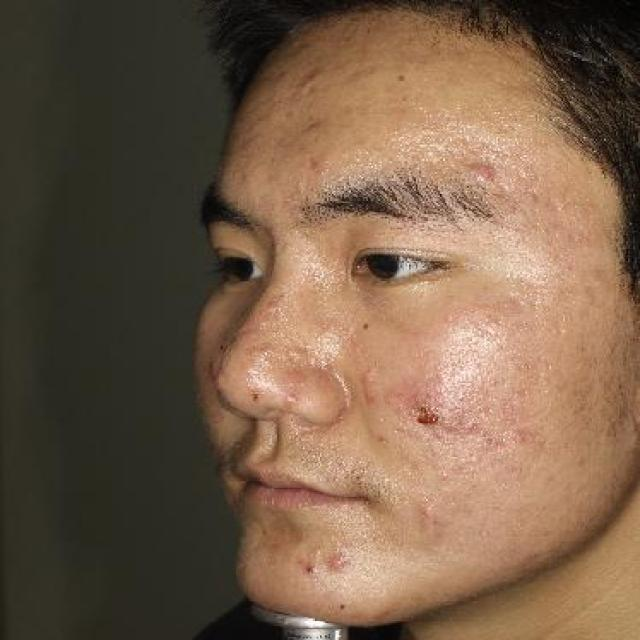dark spot: (382, 378, 457, 436), (282, 62, 340, 98), (289, 549, 318, 585)
nodules: (467, 150, 505, 188), (320, 548, 358, 577)
